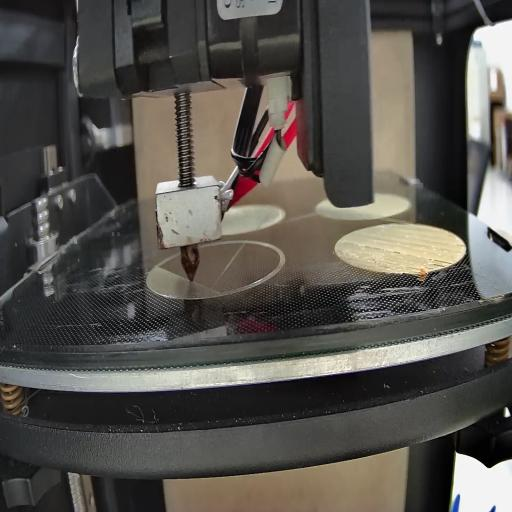under_extrusion: (344, 240, 402, 258), (423, 253, 453, 272), (452, 239, 466, 251)
